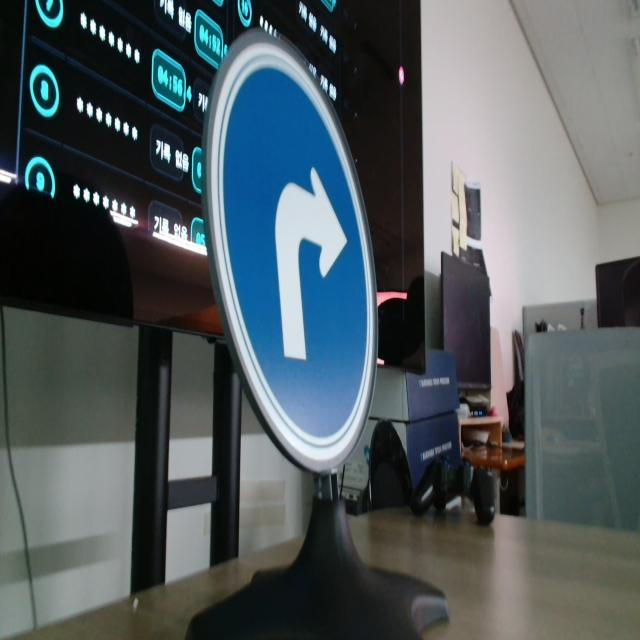right_dierection: (198, 22, 378, 474)
